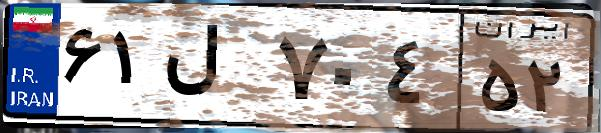0: (330, 28, 385, 110)
1: (110, 28, 158, 98)
2: (525, 38, 570, 115)
4: (385, 28, 445, 110)
5: (475, 38, 525, 113)
6: (57, 26, 110, 100)
7: (270, 28, 330, 110)
ل: (158, 20, 270, 120)
